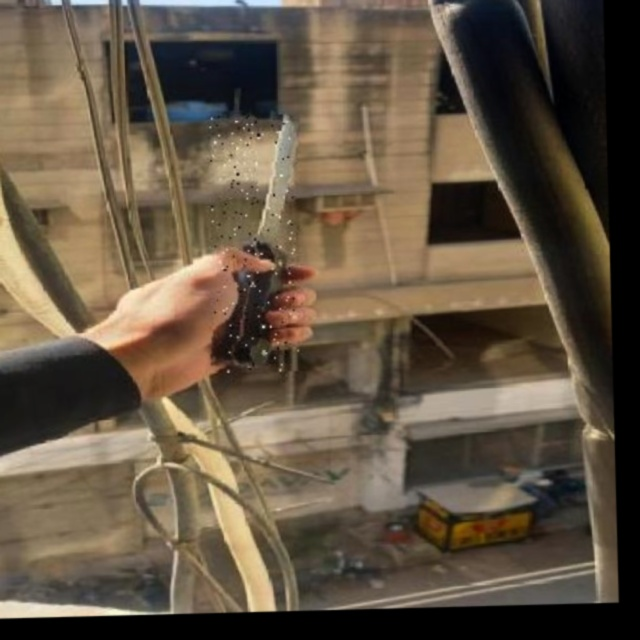Sharp-Object: (209, 111, 300, 372)
